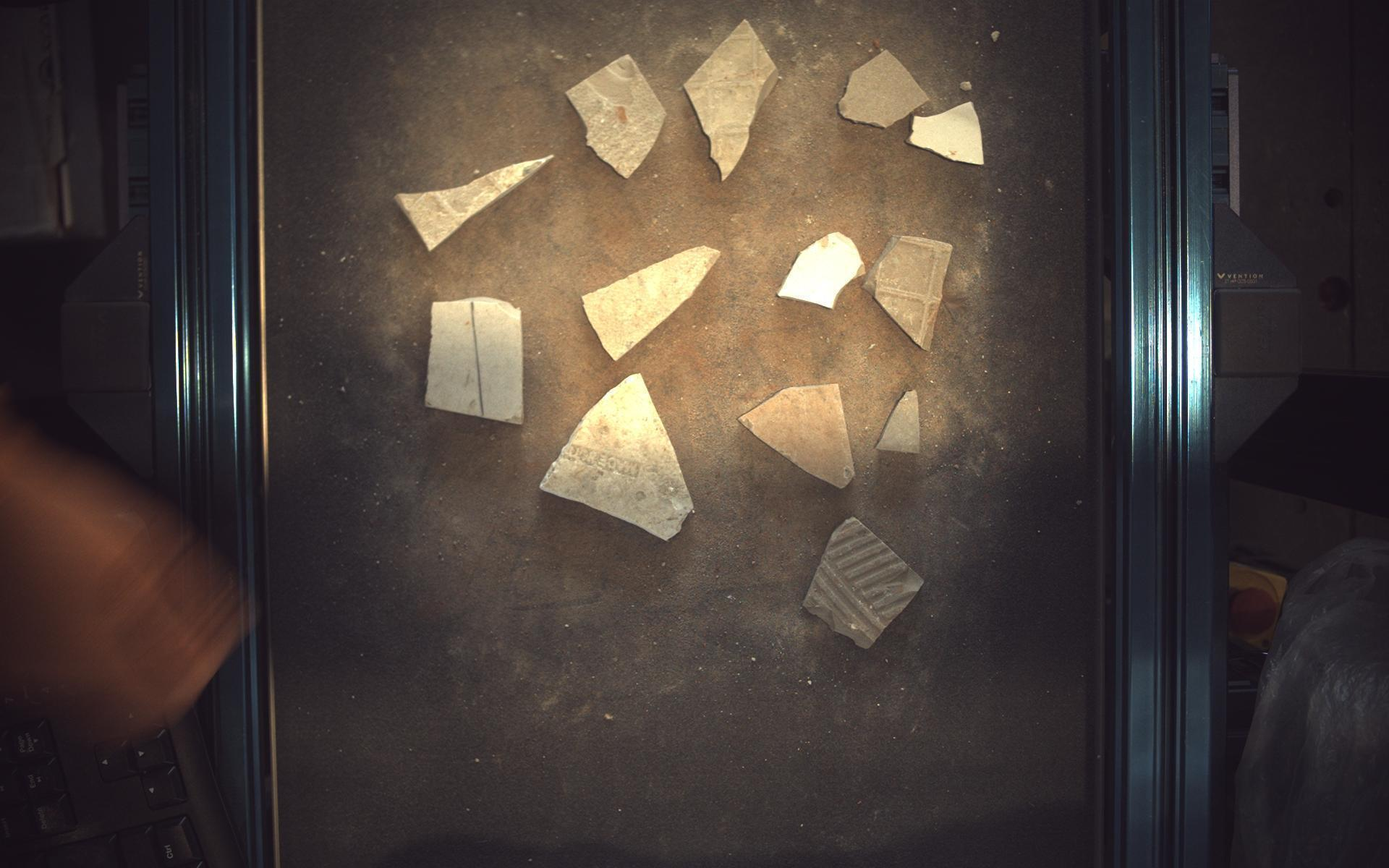tile: (540, 373, 694, 541), (804, 517, 925, 650), (583, 245, 721, 360), (685, 18, 780, 179), (394, 154, 553, 250), (425, 297, 524, 425), (567, 53, 666, 177), (741, 384, 857, 488), (865, 234, 954, 350), (840, 48, 930, 127), (779, 231, 864, 307), (911, 101, 986, 163), (878, 390, 922, 454)
